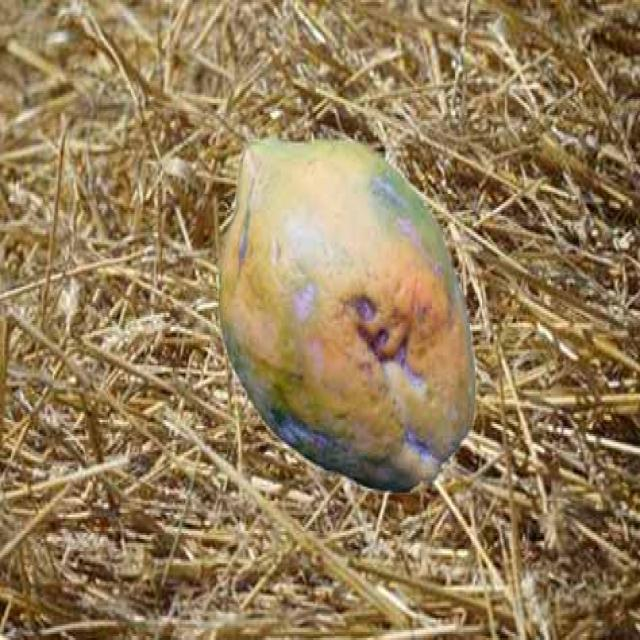Pepaya rippen: (217, 121, 486, 499)
